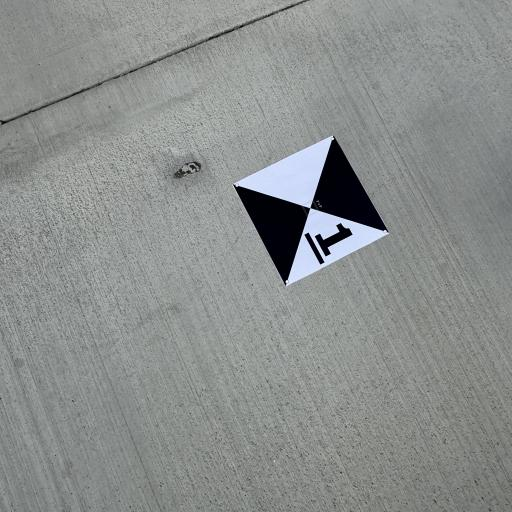target1: (230, 132, 393, 286)
